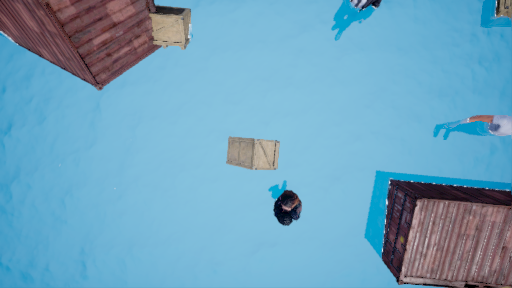person: (430, 111, 511, 144), (269, 181, 310, 232)
